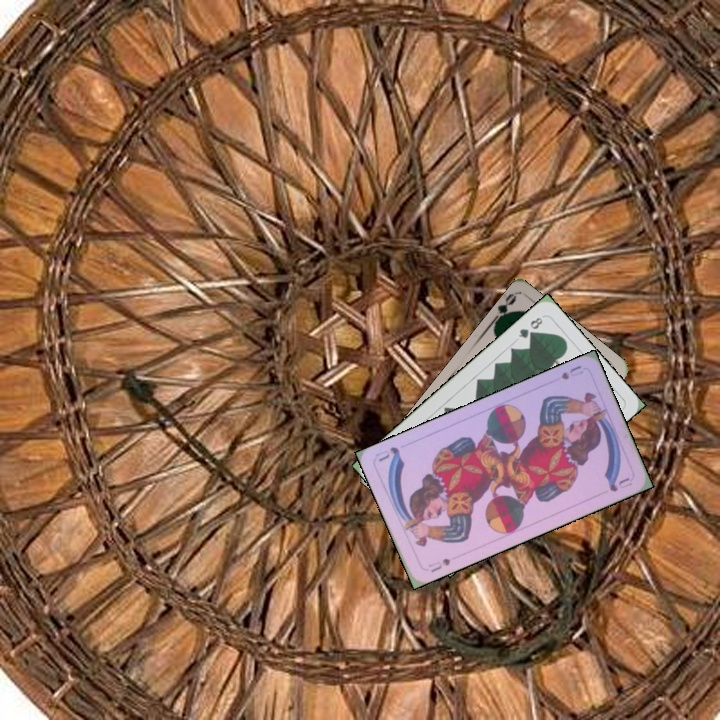G8: (514, 313, 545, 341)
GO: (488, 290, 519, 327)
SU: (557, 361, 586, 382), (424, 554, 453, 575)
